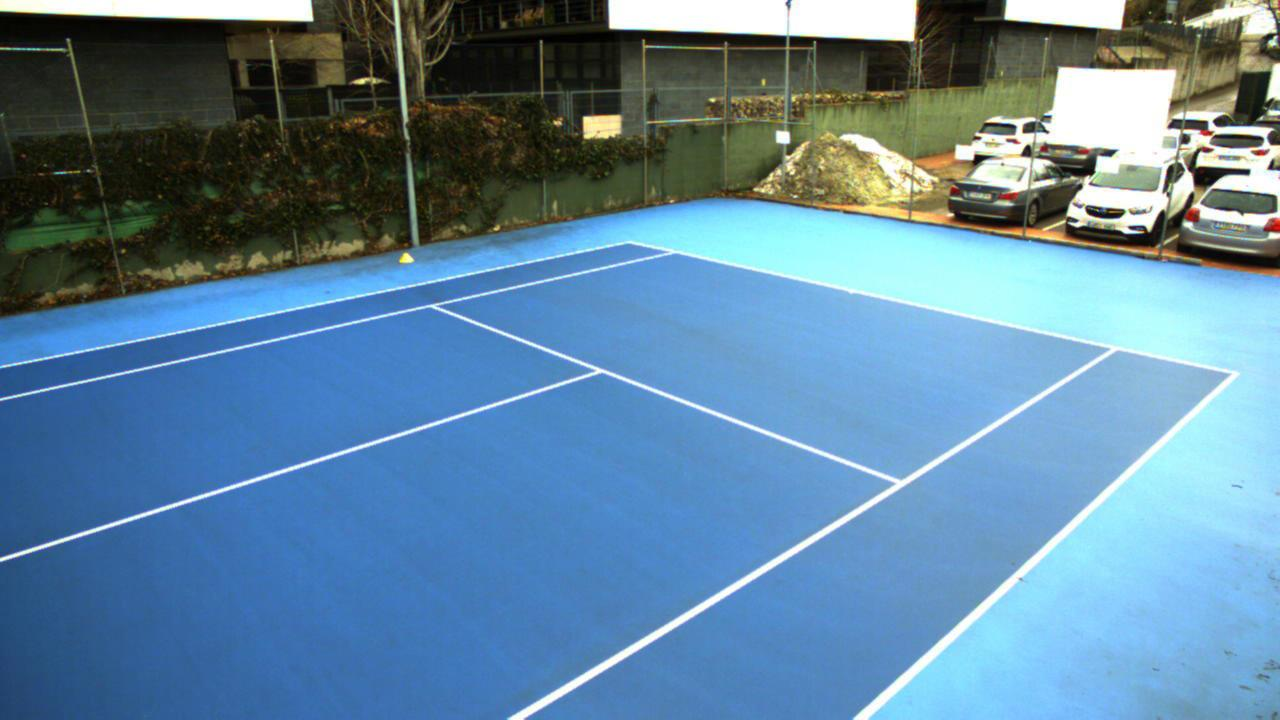cancha_tenis: (0, 250, 1114, 720)
point_f1: (663, 243, 685, 261)
point_fc1: (1093, 336, 1123, 366), (845, 284, 859, 300)
point_i1: (420, 296, 454, 318)
point_i2: (878, 470, 919, 502)
point_ic1: (578, 358, 615, 385)
